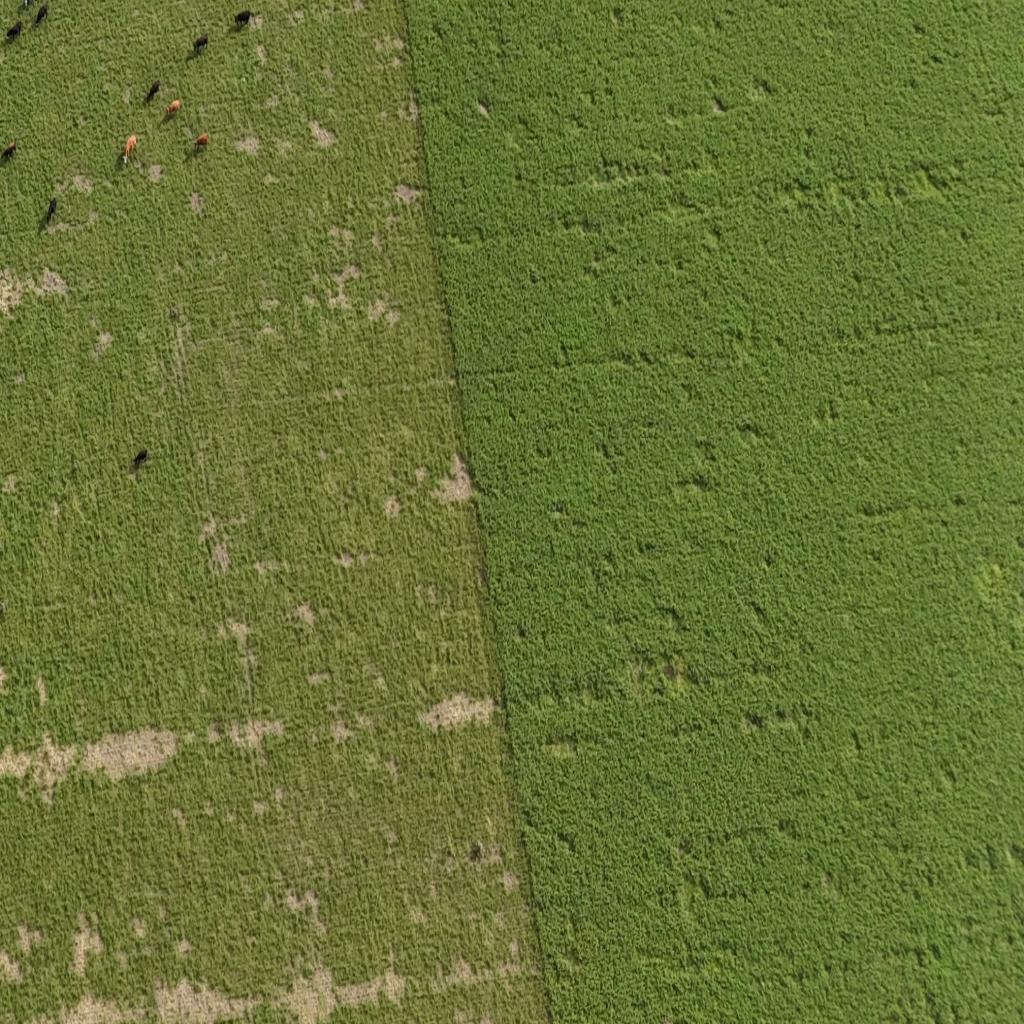cow: (40, 194, 61, 230), (132, 447, 151, 473), (123, 134, 137, 166), (145, 79, 160, 104), (1, 140, 17, 162), (34, 4, 48, 27), (6, 22, 22, 42), (234, 10, 251, 28), (194, 34, 208, 54), (194, 134, 208, 152), (167, 100, 180, 118), (20, 0, 30, 13)
